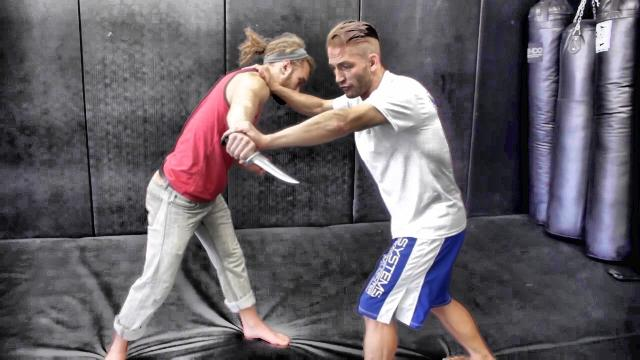knife: (215, 132, 305, 192)
